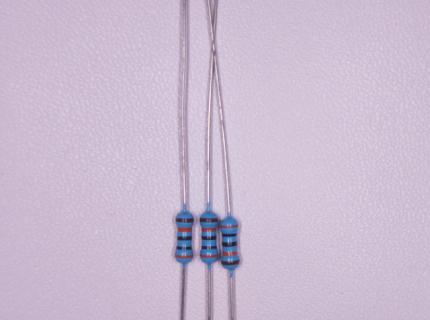Black band: (177, 236, 192, 241), (223, 242, 237, 247), (202, 236, 216, 240), (202, 246, 216, 249), (177, 247, 191, 250), (223, 234, 236, 237)
Brown band: (221, 260, 239, 265), (176, 218, 193, 222), (201, 218, 218, 222)
Orange band: (178, 227, 192, 232), (223, 252, 238, 256), (220, 225, 238, 228), (202, 228, 215, 232), (201, 254, 218, 257), (176, 255, 193, 258)
